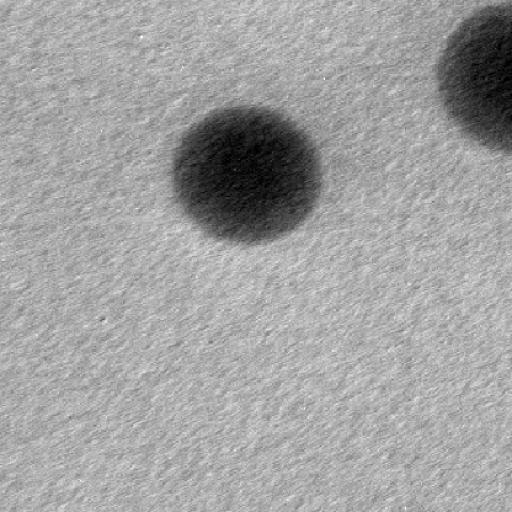Nanoparticles: (169, 103, 323, 244), (439, 6, 511, 152)
